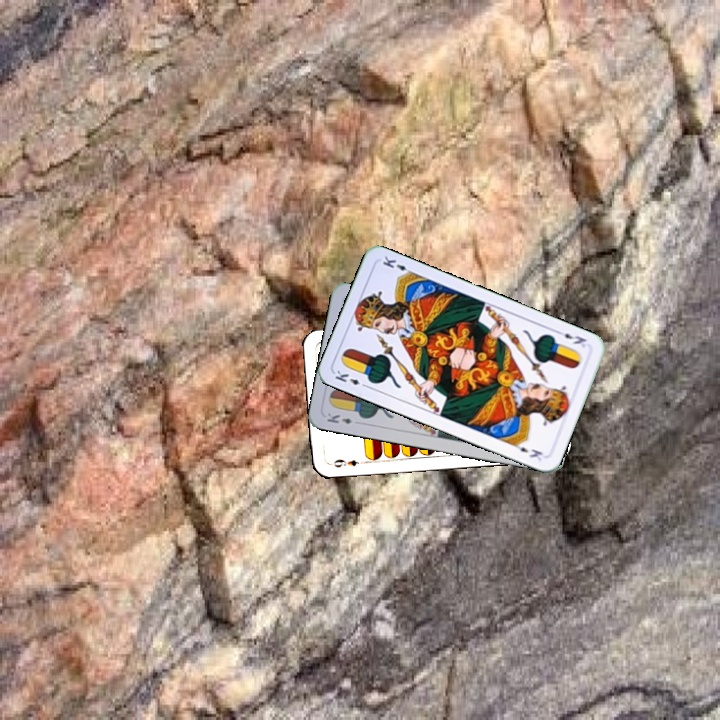E9: (326, 455, 361, 470)
EK: (331, 366, 371, 391), (552, 326, 589, 349), (323, 409, 355, 427)
